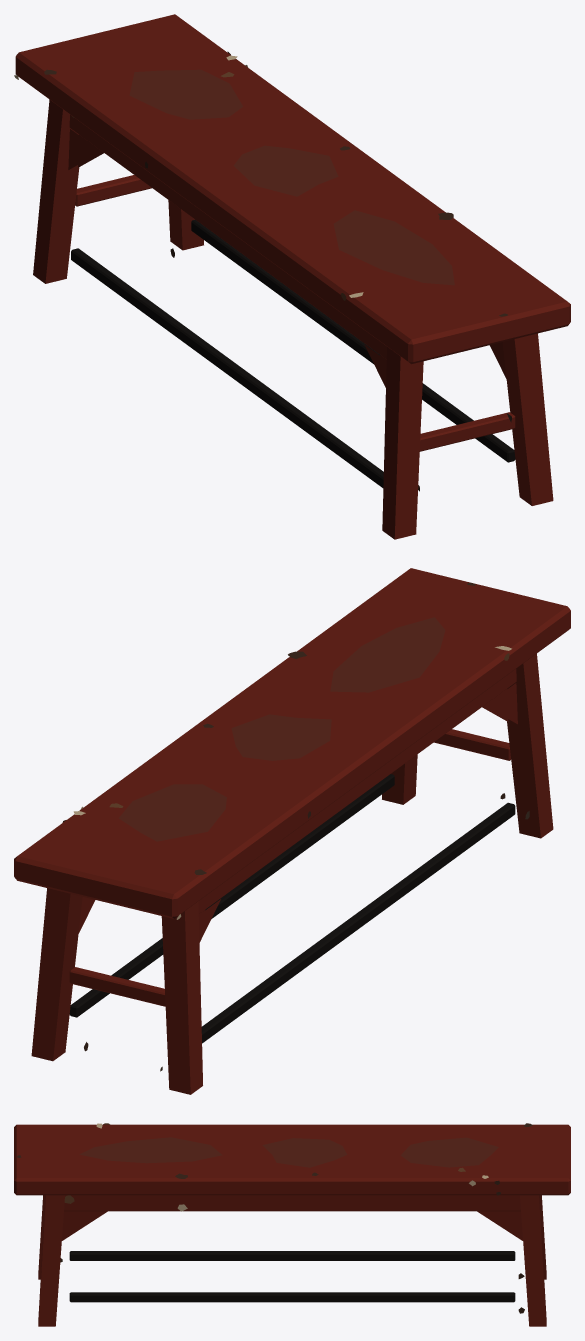
The model's file is bench_vermilion.glb.
The picture shows the model from 3 angles, top to bottom: view 1: azimuth 30°, elevation 25°; view 2: azimuth 150°, elevation 25°; view 3: azimuth 270°, elevation 25°; orthographic projection. The views are drawn at different scales.
Parts seen in each view (by area): view 1: teil0, teil1, teil6; view 2: teil0, teil1, teil6; view 3: teil0, teil6, teil1.
Part boxes in pixels (x1=…): teil0: x1=15, y1=14, x2=570, y2=539; teil1: x1=129, y1=69, x2=454, y2=285; teil6: x1=71, y1=219, x2=515, y2=487; teil0: x1=14, y1=568, x2=570, y2=1094; teil1: x1=119, y1=617, x2=445, y2=841; teil6: x1=69, y1=774, x2=515, y2=1043; teil0: x1=14, y1=1124, x2=570, y2=1326; teil6: x1=69, y1=1251, x2=515, y2=1302; teil1: x1=79, y1=1137, x2=498, y2=1167.
Bounding box in the file's own units: 0.381 × 0.4705 × 1.6.
